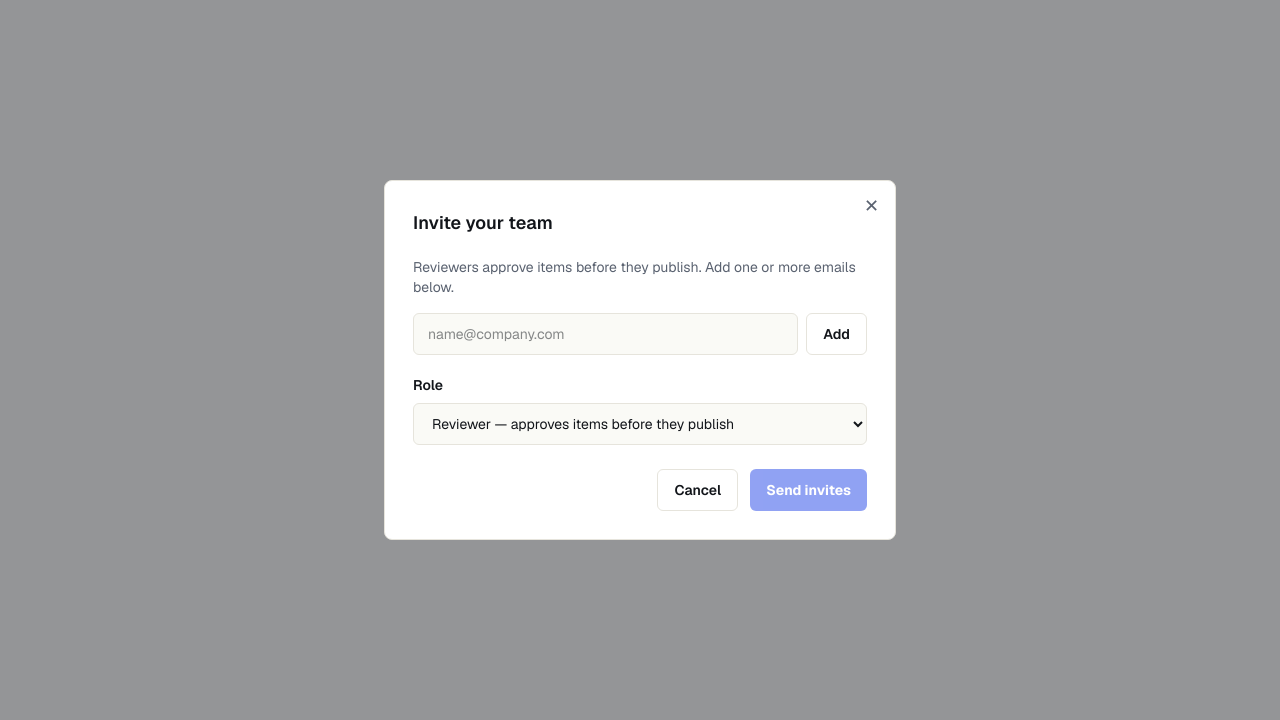
Test: InviteModal › reports partial failure without losing the emails that succeeded
Type "good@example.com" into the field with placeholder "name@company.com" at (606, 334), box [413,313,798,355]
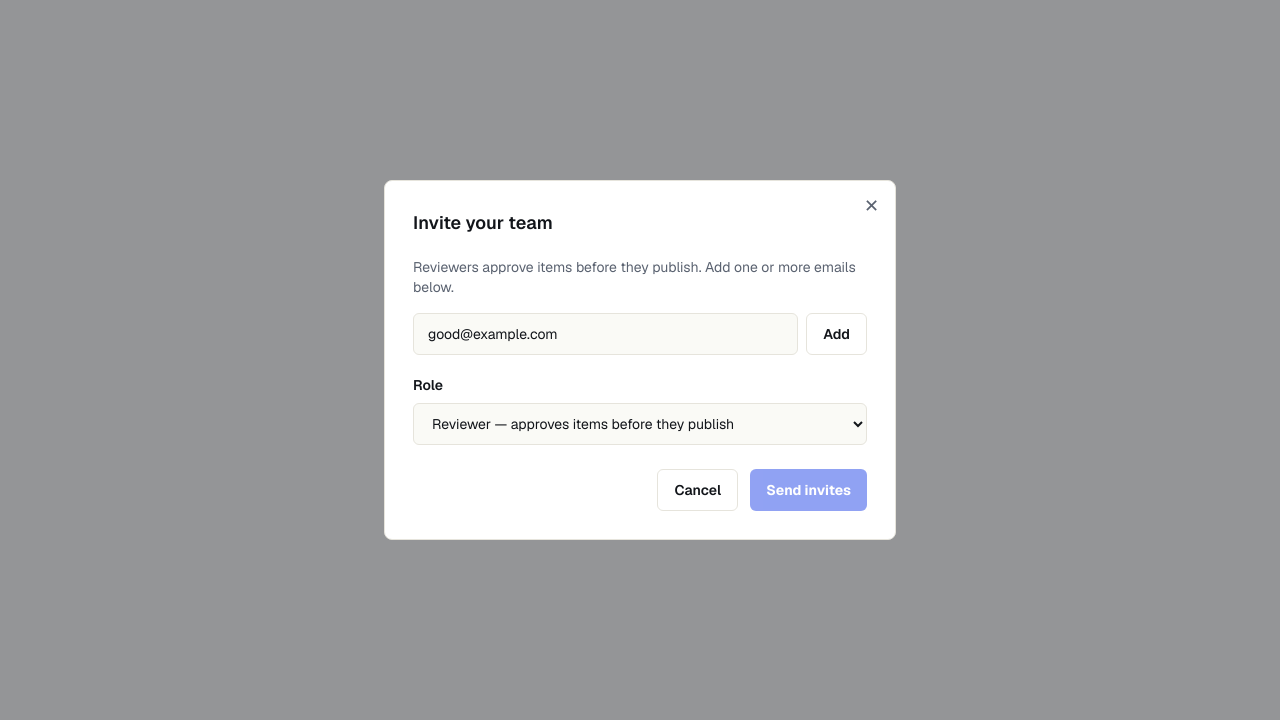
Click the button "Add" at (837, 334), box [806,313,867,355]
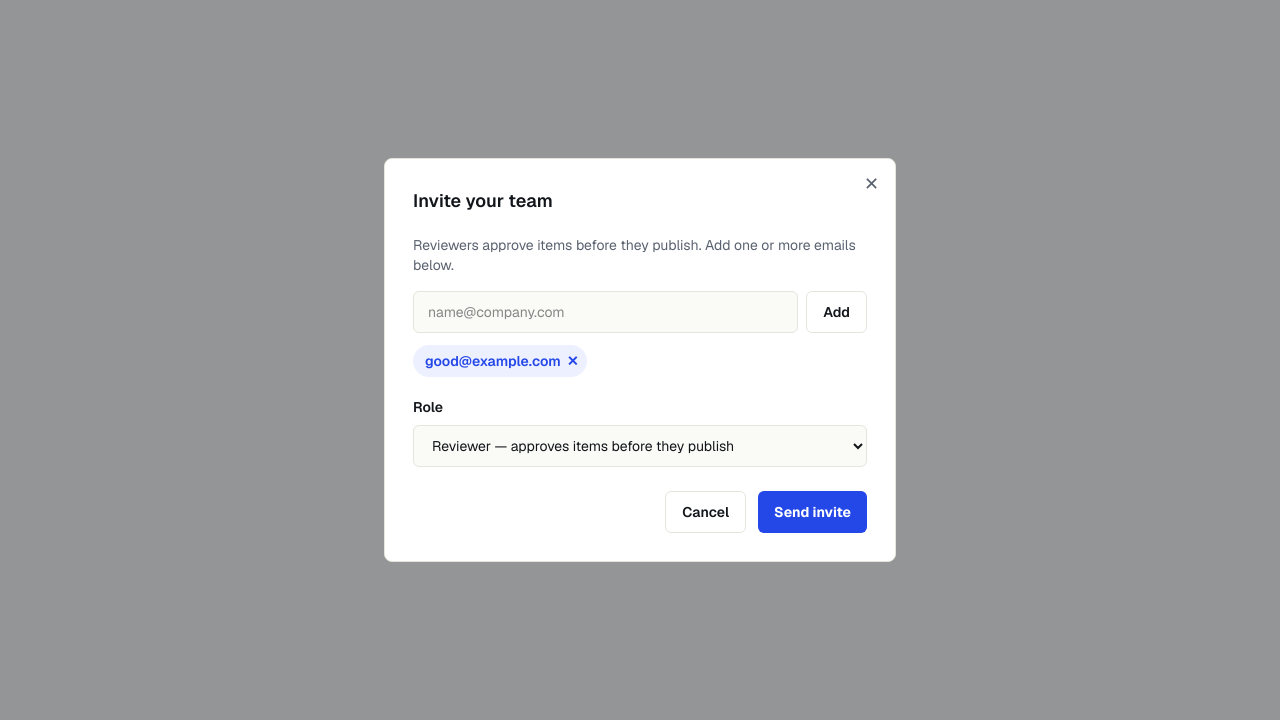
Type "bad@example.com" into the field with placeholder "name@company.com" at (606, 312), box [413,291,798,333]
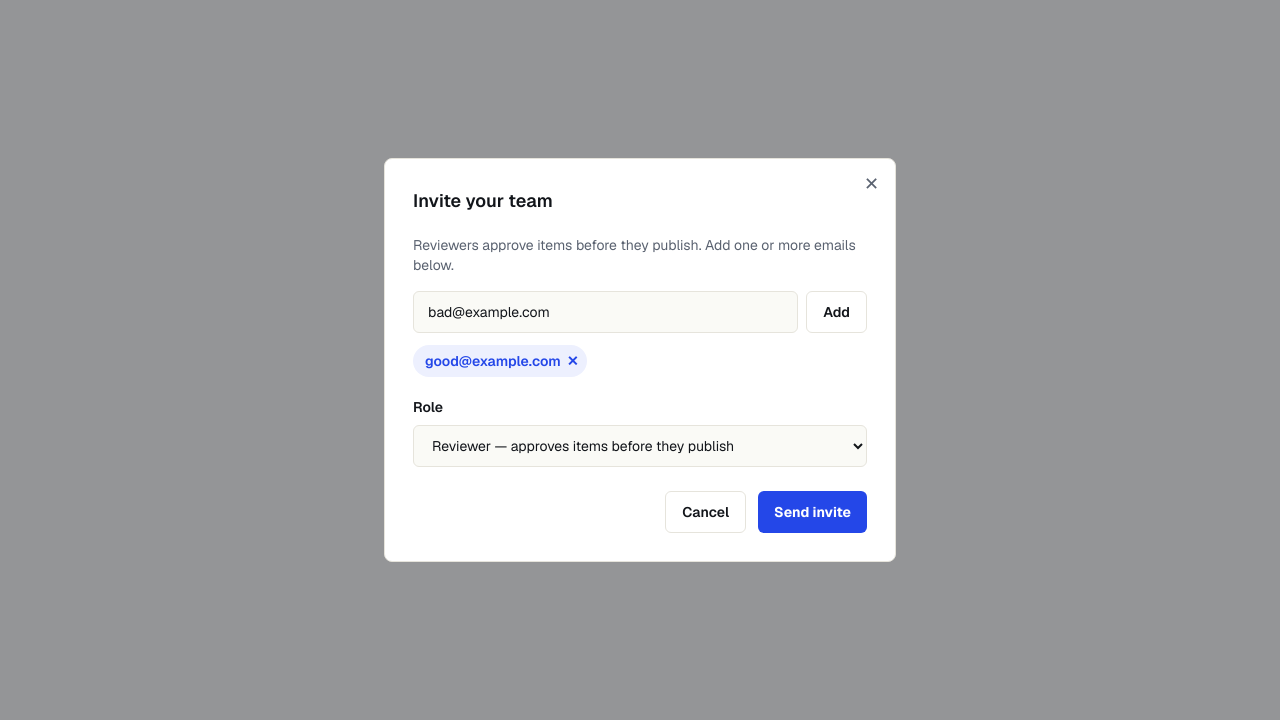
Click the button "Add" at (837, 312), box [806,291,867,333]
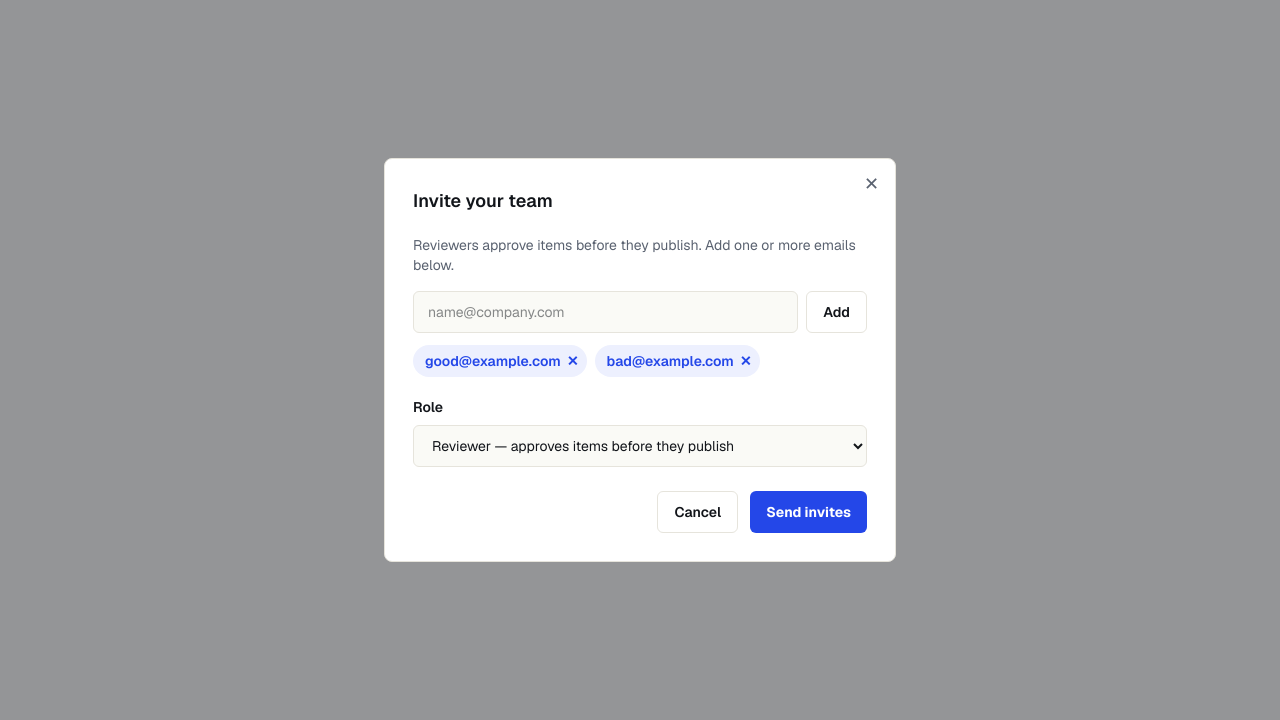
Click the button "Send invites" at (809, 512), box [750,491,867,533]
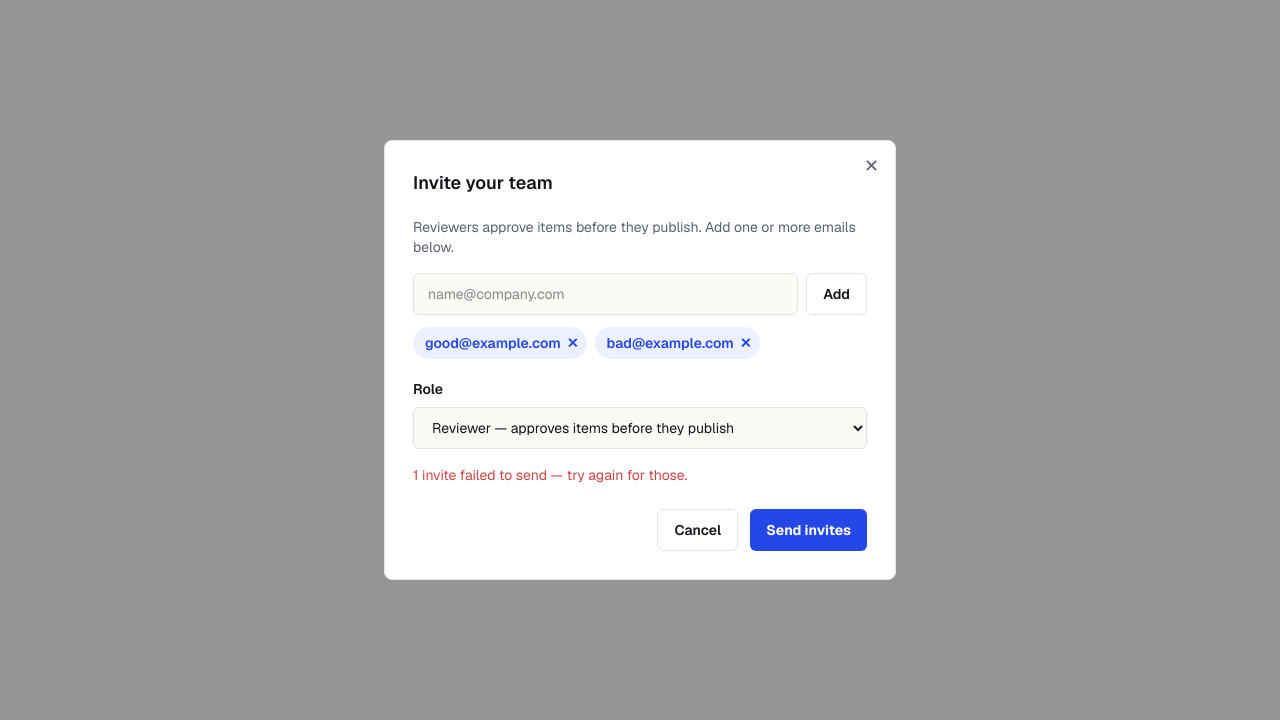
Expected: the text "1 invite failed to send — try again for those." is shown, [413,466,687,484]
